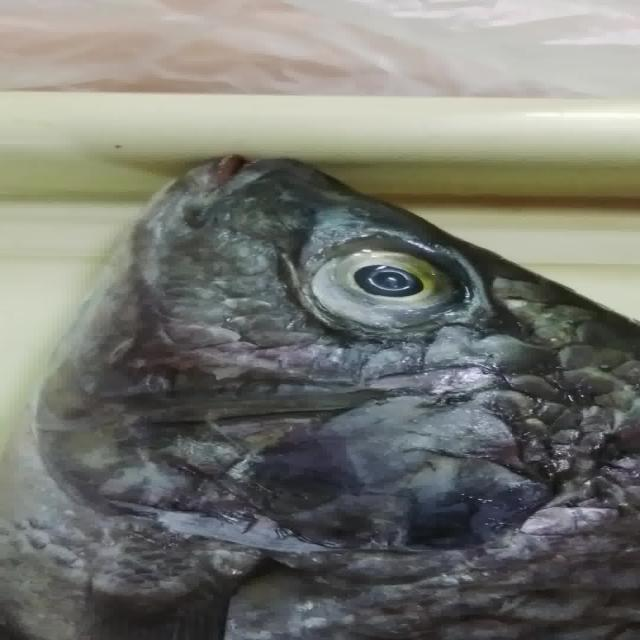Non-Fresh: (272, 205, 503, 359)
